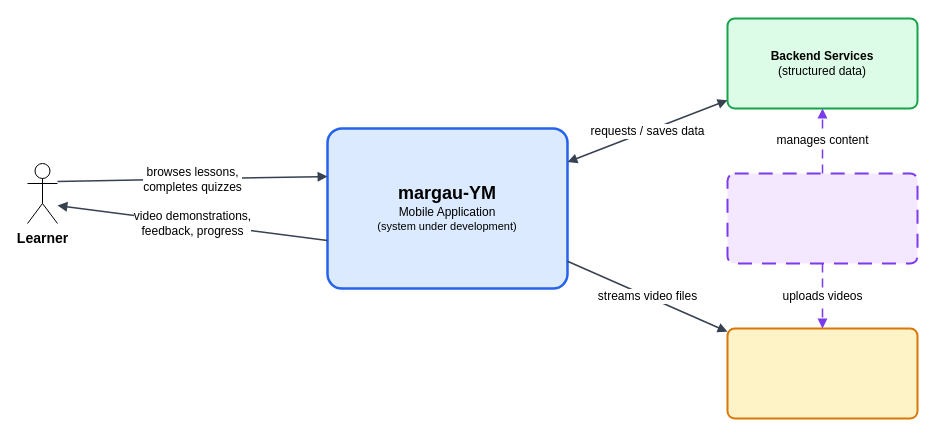
The diagram is 936 pixels wide and 436 high, and some of its shapes have lost their labels. The centre of each missing label's shape, as x and y in pixels:
Content Administrator (potential role) via backend tools in v1: (x=822, y=218)
Video Storage Service (educational videos): (x=822, y=373)
